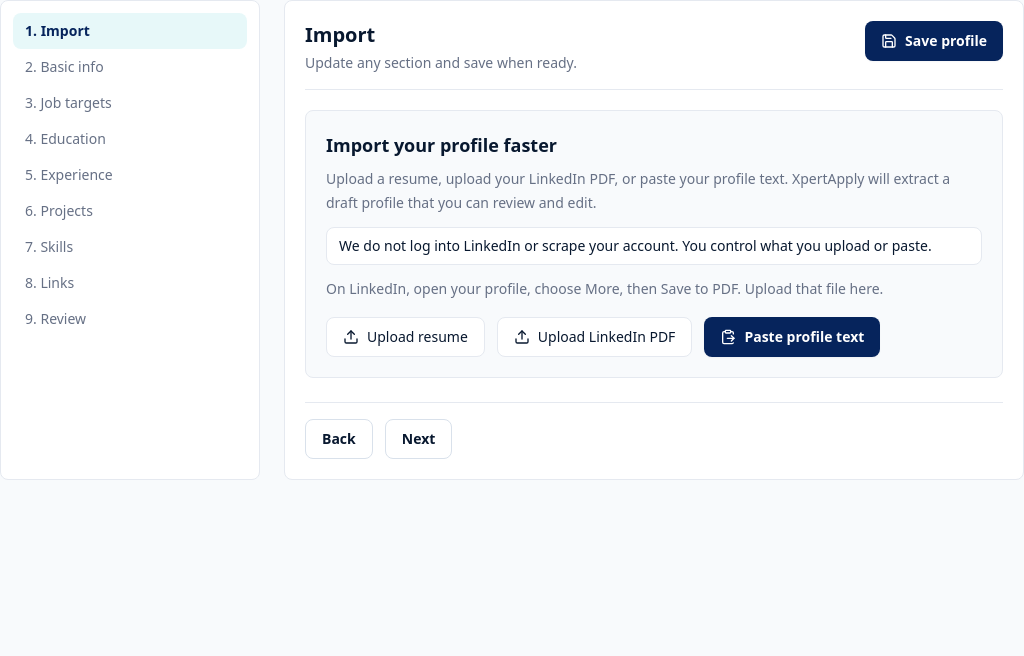
ProfileWizard › supports target role, level, and location chips
The image size is (1024, 656).
What coordinates should you click on to do the following:
click the button "3. Job targets"
I would click on:
 (130, 103)
Its box is x1=13 y1=85 x2=247 y2=121.
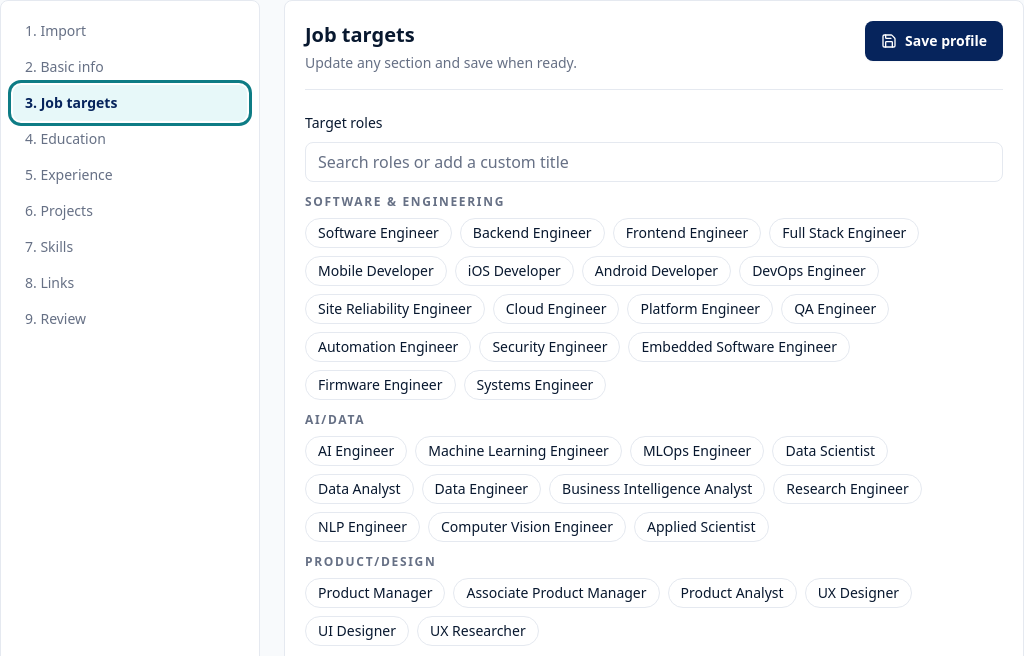
What coordinates should you click on to do the following:
click the button "Software Engineer"
I would click on:
 (378, 233)
Its box is x1=305 y1=218 x2=452 y2=248.
(page scrolled)
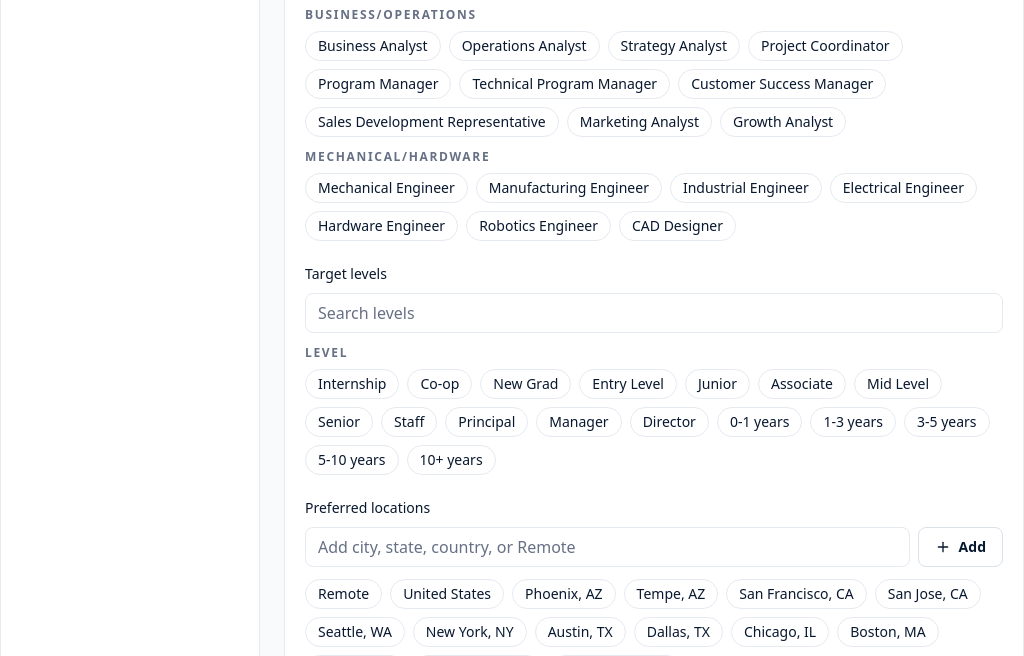
What coordinates should you click on to do the following:
click the button "New Grad"
I would click on:
 (526, 384)
Its box is x1=480 y1=369 x2=571 y2=399.
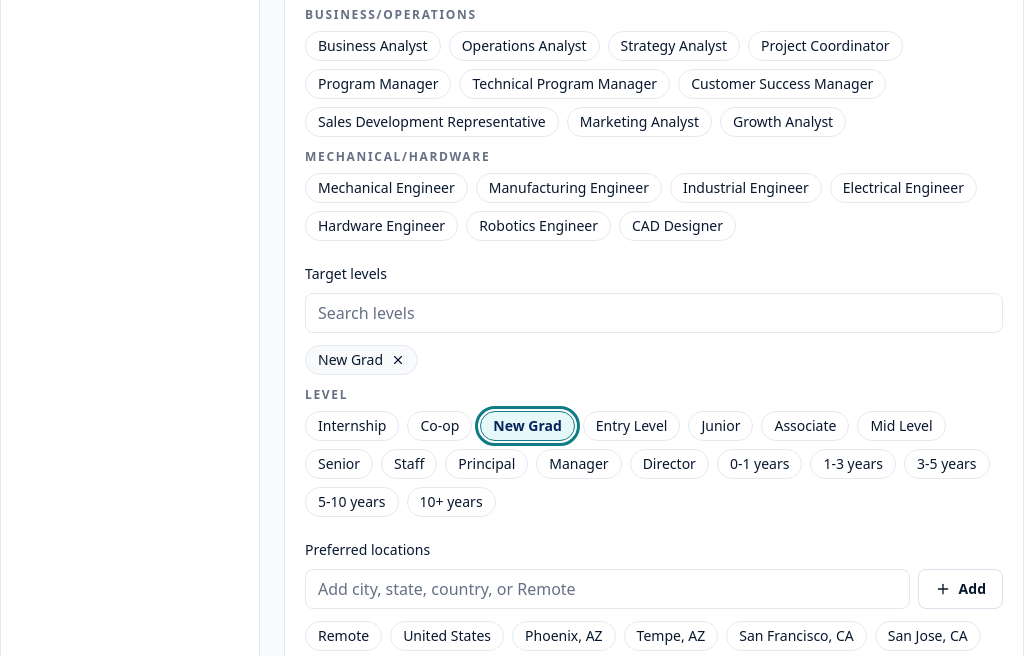
What coordinates should you click on to do the following:
click the button "Remote"
I would click on:
 (344, 636)
Its box is x1=305 y1=621 x2=382 y2=651.
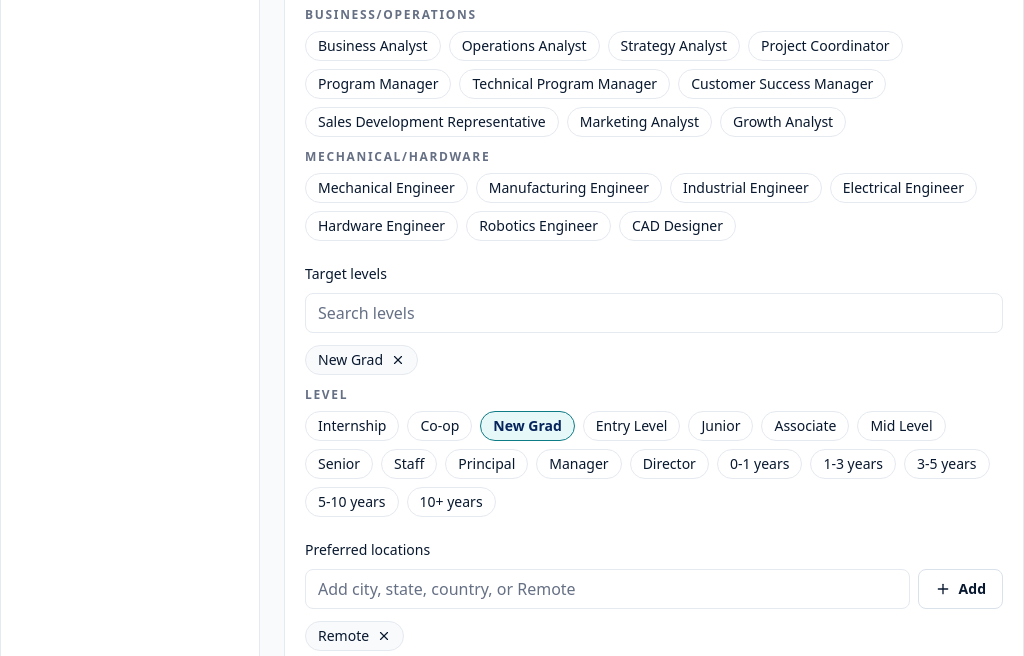
Expected: the button named "Remove Remote" is shown, x1=377 y1=629 x2=391 y2=643
